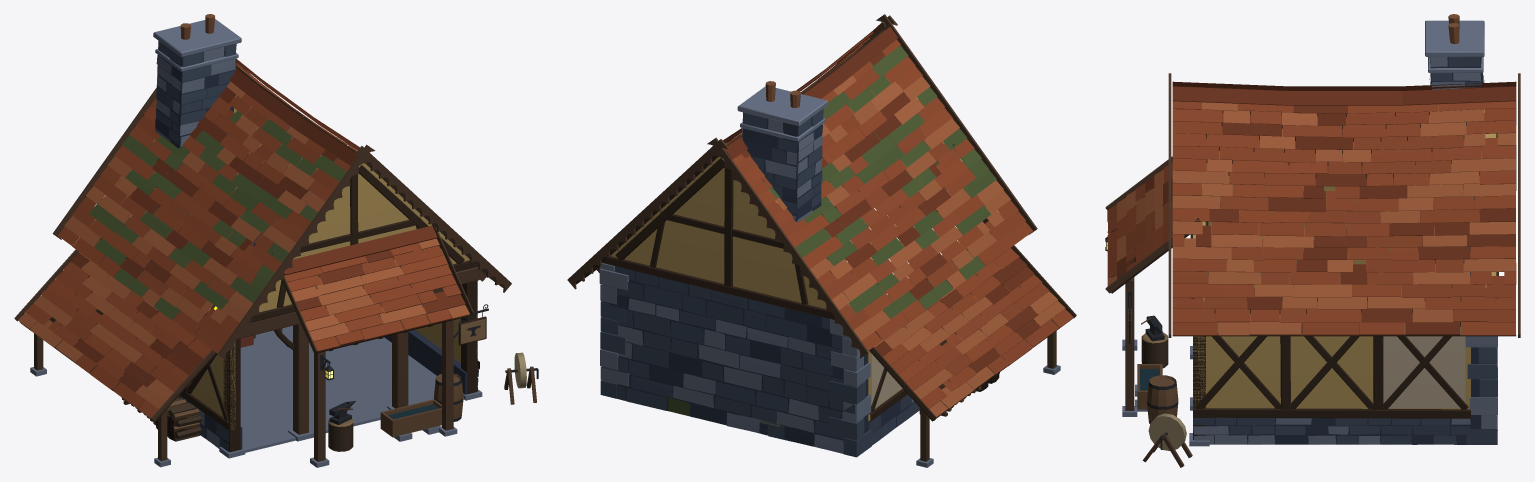
Rendered from blacksmith.glb.
3 views of the same model, side by side, from view 1: azimuth 30°, elevation 25°; view 2: azimuth 150°, elevation 25°; view 3: azimuth 270°, elevation 25° (orthographic). The views are drawn at different scales.
Parts seen in each view (by area): view 1: isl_blacksmith; view 2: isl_blacksmith; view 3: isl_blacksmith.
Boxes of the visible parts, bbox=[...] form: isl_blacksmith: bbox=[14, 14, 538, 467]; isl_blacksmith: bbox=[567, 14, 1076, 467]; isl_blacksmith: bbox=[1105, 14, 1520, 467].
Size of the model in its own units: 8.99 by 7.53 by 8.21.
